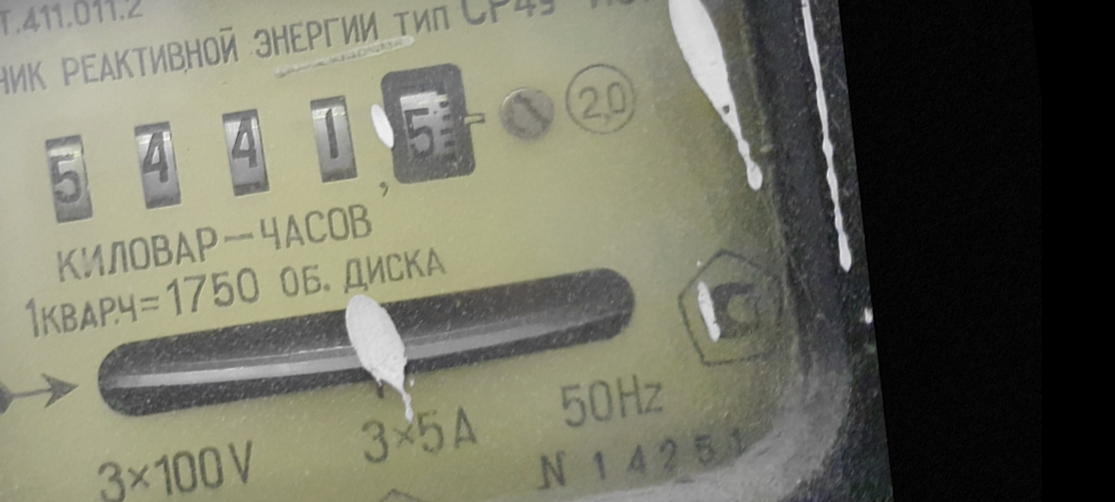1: (315, 104, 345, 165)
4: (221, 109, 265, 179), (134, 125, 176, 190)
5: (399, 100, 441, 166), (44, 148, 88, 209)
screen: (14, 37, 503, 254)
